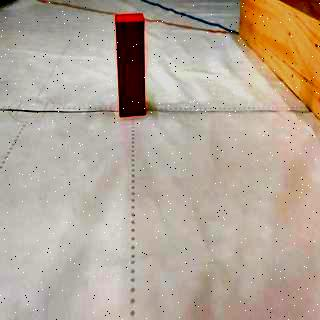redbox: (116, 12, 146, 118)
